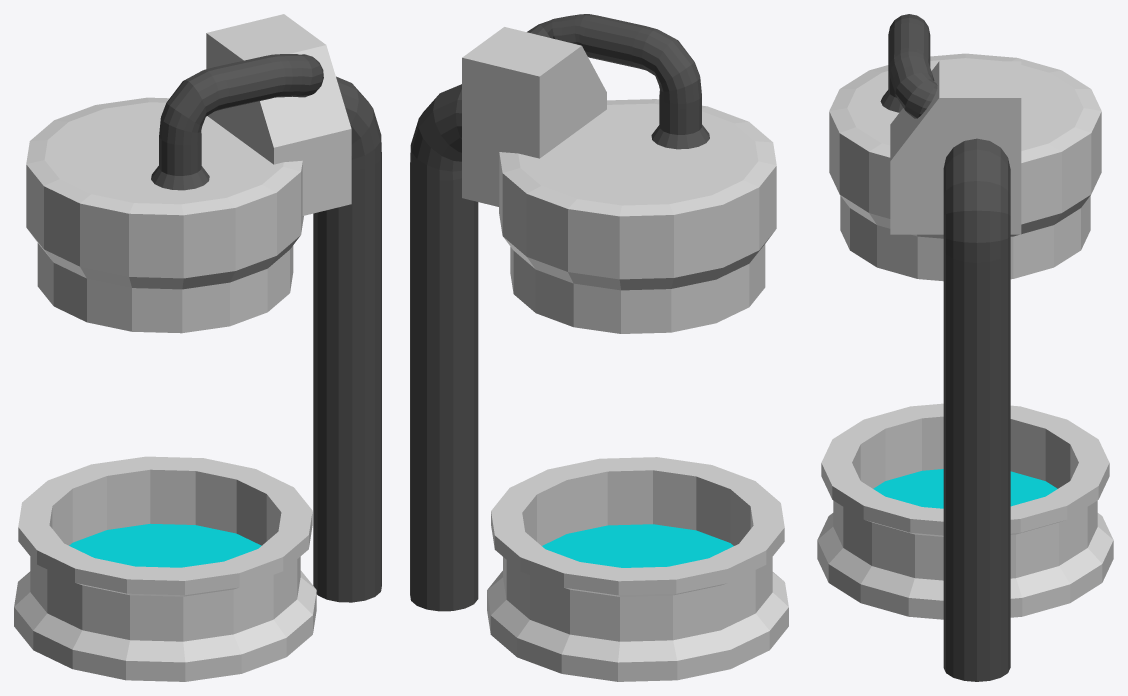
File: lifepod.fbx
3 renders of one model, left to right at view 1: azimuth 30°, elevation 25°; view 2: azimuth 150°, elevation 25°; view 3: azimuth 270°, elevation 25°, orthographic. The views are drawn at different scales.
Parts seen in each view (by area): view 1: LifePod; view 2: LifePod; view 3: LifePod.
Part boxes in pixels (left/top/right/bottom): LifePod: left=14, top=14, right=381, bottom=681; LifePod: left=410, top=14, right=788, bottom=681; LifePod: left=817, top=14, right=1113, bottom=681.
Size of the model in its own units: 265 by 423 by 200.
